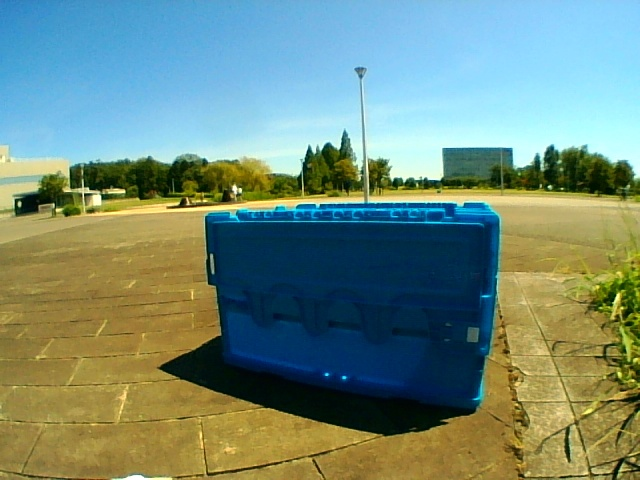blue_box: (227, 214, 488, 356)
